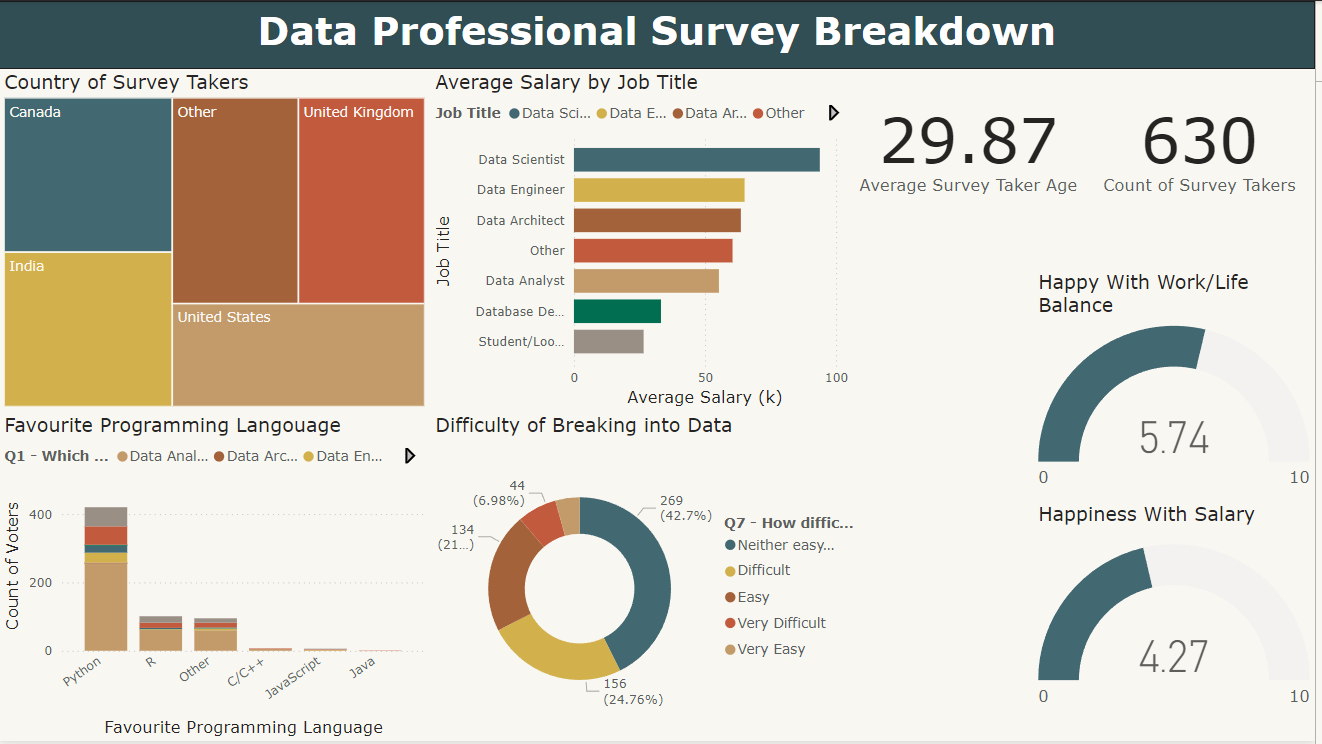

What the dashboard file says about the page in this screenshot:
{"tool":"powerbi","page":{"name":"Page 1","canvas":[1280,720],"ordinal":0},"visuals":[{"type":"textbox","box":[0,0,1280,66.1],"z":0},{"type":"card","fields":{"Values":["CountNonNull(Data Professional Survey (2).Unique ID)"]},"box":[1055.3,66.1,224.7,149.8],"z":1000},{"type":"card","fields":{"Values":["Avg(Data Professional Survey (2).Q10 - Current Age)"]},"box":[830.6,66.1,224.7,149.8],"z":2000},{"type":"barChart","title":"Average Salary by Job Title","fields":{"Category":["Data Professional Survey (2).Q1 - Which Title Best Fits your Current Role?.1"],"Y":["Avg(Data Professional Survey (2).Average Salary)"],"Series":["Data Professional Survey (2).Q1 - Which Title Best Fits your Current Role?.1"]},"box":[419,66,412,333.3],"z":3000},{"type":"columnChart","title":"Favourite Programming Langouage","fields":{"Category":["Data Professional Survey (2).Q5 - Favorite Programming Language.1"],"Y":["CountNonNull(Data Professional Survey (2).Unique ID)"],"Series":["Data Professional Survey (2).Q1 - Which Title Best Fits your Current Role?.1"]},"box":[0,399.3,419,320.6],"z":4000},{"type":"treemap","title":"Country of Survey Takers ","fields":{"Group":["Data Professional Survey (2).Q11 - Which Country do you live in?.1"],"Values":["Count(Data Professional Survey (2).Q11 - Which Country do you live in?.1)"]},"box":[0,66,419,333.3],"z":5000},{"type":"gauge","title":"Happiness With Salary","fields":{"Y":["Avg(Data Professional Survey (2).Q6 - How Happy are you in your Current Position with the following? (Salary))"],"MinValue":["Min(Data Professional Survey (2).Q6 - How Happy are you in your Current Position with the following? (Salary))"],"MaxValue":["Max(Data Professional Survey (2).Q6 - How Happy are you in your Current Position with the following? (Salary))"]},"box":[1005.7,486.1,274.3,222.2],"z":6000},{"type":"gauge","title":"Happy With Work/Life Balance","fields":{"Y":["Avg(Data Professional Survey (2).Q6 - How Happy are you in your Current Position with the following? (Work/Life Balance)"],"MinValue":["Min(Data Professional Survey (2).Q6 - How Happy are you in your Current Position with the following? (Work/Life Balance)"],"MaxValue":["Max(Data Professional Survey (2).Q6 - How Happy are you in your Current Position with the following? (Work/Life Balance)"]},"box":[1005.7,260.4,274.3,225.7],"z":7000},{"type":"donutChart","title":"Difficulty of Breaking into Data","fields":{"Category":["Data Professional Survey (2).Q7 - How difficult was it for you to break into Data?"],"Y":["CountNonNull(Data Professional Survey (2).Q7 - How difficult was it for you to break into Data?)"]},"box":[419,399.3,412,320.6],"z":8000}]}

Visuals, with their boxes in screenshot pixels (x1, y1, x2, y2), scaled from the page's 1280x720 canvas onto the 1322x744 screenshot:
textbox: bbox=[0, 0, 1321, 68]
card - CountNonNull(Data Professional Survey (2).Unique ID): bbox=[1090, 68, 1321, 223]
card - Avg(Data Professional Survey (2).Q10 - Current Age): bbox=[858, 68, 1090, 223]
"Average Salary by Job Title" barChart: bbox=[433, 68, 858, 413]
"Favourite Programming Langouage" columnChart: bbox=[0, 413, 433, 743]
"Country of Survey Takers " treemap: bbox=[0, 68, 433, 413]
"Happiness With Salary" gauge: bbox=[1039, 502, 1321, 732]
"Happy With Work/Life Balance" gauge: bbox=[1039, 269, 1321, 502]
"Difficulty of Breaking into Data" donutChart: bbox=[433, 413, 858, 743]
